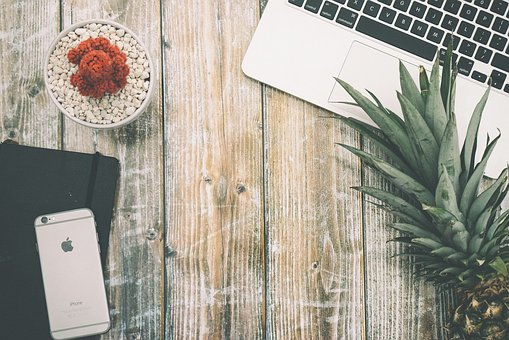mobile: (30, 210, 122, 340)
